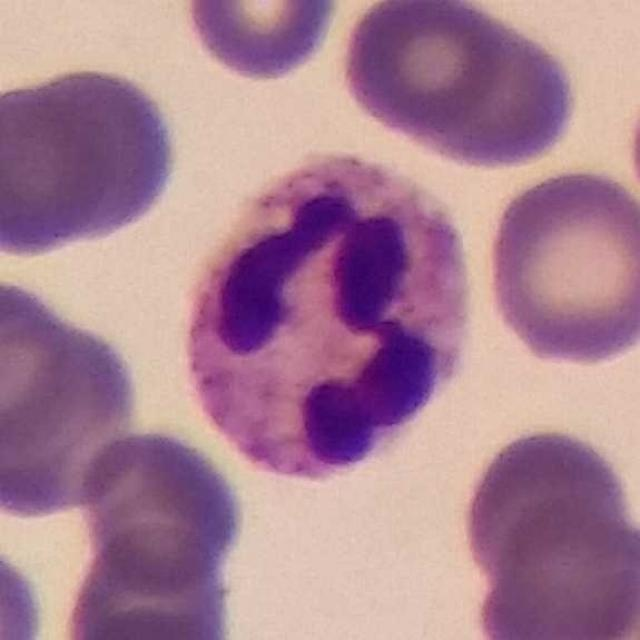Neutrophil: (168, 142, 491, 502)
RBC: (0, 59, 185, 259), (477, 162, 640, 370), (0, 301, 144, 522), (392, 11, 582, 172), (73, 422, 250, 594), (457, 422, 636, 588), (334, 0, 524, 146), (469, 494, 640, 640), (55, 525, 244, 640), (0, 269, 95, 454), (177, 0, 346, 85), (61, 604, 242, 639), (0, 537, 50, 640), (622, 66, 640, 238)
